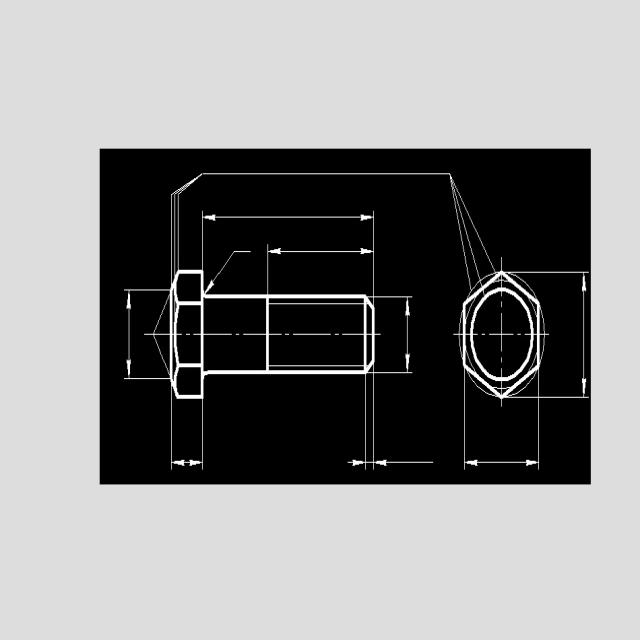marking_line: (202, 212, 374, 222), (270, 246, 373, 256), (582, 274, 589, 397), (125, 292, 135, 378), (377, 457, 434, 468), (467, 458, 537, 466), (405, 298, 411, 373), (172, 459, 202, 467), (348, 456, 365, 467)
special_symbol: (204, 250, 255, 295)
